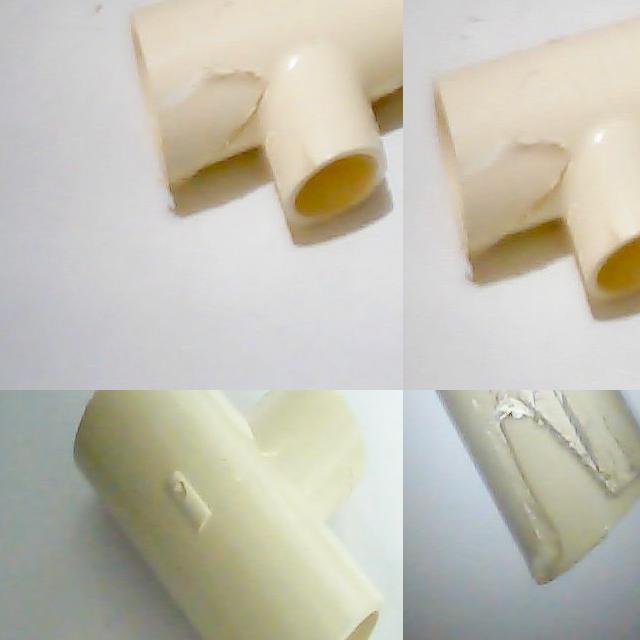Defective: (490, 403, 610, 548), (157, 50, 266, 184), (474, 122, 574, 225)
T Joint: (71, 390, 387, 640), (434, 16, 640, 298), (434, 390, 640, 588)
